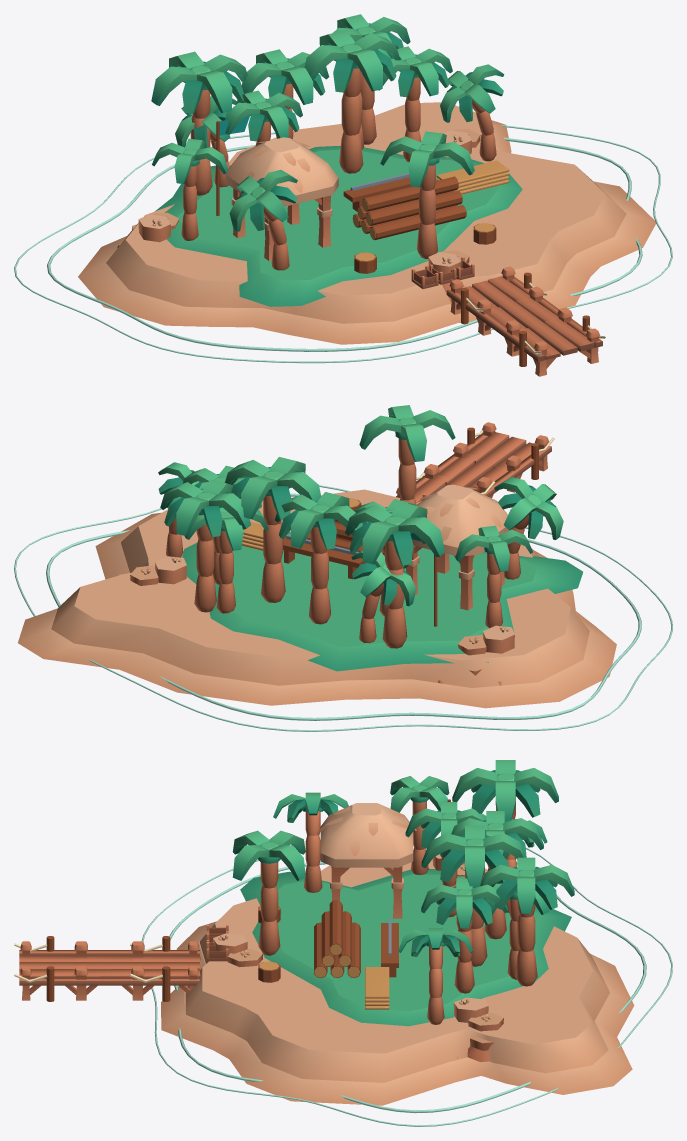
The model's file is timber.glb.
The picture shows the model from 3 angles, top to bottom: view 1: azimuth 30°, elevation 25°; view 2: azimuth 150°, elevation 25°; view 3: azimuth 270°, elevation 25°; orthographic projection. The views are drawn at different scales.
Parts seen in each view (by area): view 1: Beach • sandy silhouette.001, Island ground cover.001, Wet sand shelf.001, structure-roof.002, palm-detailed-straight.003, palm-detailed-straight.006, palm-straight.006, palm-detailed-bend.006, Shore foam.002, Dock • pier 2.001, palm-detailed-bend.004, palm-detailed-straight.004 (+16 smaller); view 2: Beach • sandy silhouette.001, Island ground cover.001, Wet sand shelf.001, palm-detailed-straight.006, palm-detailed-straight.003, structure-roof.002, palm-detailed-straight.005, palm-detailed-straight.002, palm-straight.006, palm-detailed-bend.006, Shore foam.002, palm-straight.005 (+11 smaller); view 3: Beach • sandy silhouette.001, Island ground cover.001, Wet sand shelf.001, structure-roof.002, palm-detailed-straight.005, palm-detailed-straight.003, palm-straight.006, palm-detailed-straight.006, palm-detailed-straight.004, Dock • pier 1.001, Dock • pier 0.001, Dock • pier 2.001 (+13 smaller).
Boxes of the visible parts, x1,y1,x2,y2 form: Beach • sandy silhouette.001: [106, 102, 626, 323]; Island ground cover.001: [134, 145, 522, 306]; Wet sand shelf.001: [78, 120, 655, 344]; structure-roof.002: [225, 137, 338, 260]; palm-detailed-straight.003: [304, 30, 400, 173]; palm-detailed-straight.006: [151, 51, 247, 195]; palm-straight.006: [380, 131, 474, 258]; palm-detailed-bend.006: [229, 169, 297, 270]; Shore foam.002: [47, 137, 642, 351]; Dock • pier 2.001: [504, 310, 602, 376]; palm-detailed-bend.004: [440, 64, 504, 161]; palm-detailed-straight.004: [378, 46, 452, 162]; Beach • sandy silhouette.001: [51, 489, 589, 687]; Island ground cover.001: [182, 532, 582, 671]; Wet sand shelf.001: [18, 512, 616, 708]; palm-detailed-straight.006: [345, 502, 444, 648]; palm-detailed-straight.003: [225, 457, 321, 602]; structure-roof.002: [406, 484, 512, 610]; palm-detailed-straight.005: [160, 479, 250, 612]; palm-detailed-straight.002: [274, 492, 362, 624]; palm-straight.006: [359, 405, 455, 504]; palm-detailed-bend.006: [494, 477, 563, 579]; Shore foam.002: [46, 493, 641, 720]; palm-straight.005: [455, 525, 532, 628]; Beach • sandy silhouette.001: [185, 859, 609, 1082]; Island ground cover.001: [240, 868, 571, 1026]; Wet sand shelf.001: [161, 921, 634, 1105]; structure-roof.002: [317, 803, 416, 918]; palm-detailed-straight.005: [480, 857, 574, 986]; palm-detailed-straight.003: [421, 825, 526, 966]; palm-straight.006: [232, 830, 305, 955]; palm-detailed-straight.006: [452, 760, 558, 820]; palm-detailed-straight.004: [421, 878, 507, 993]; Dock • pier 1.001: [76, 941, 143, 1000]; Dock • pier 0.001: [132, 941, 200, 1000]; Dock • pier 2.001: [19, 941, 86, 1000].
Size of the model in its own units: 26.64 by 6.93 by 25.63.
Materials: 15 (9 with a texture image).
